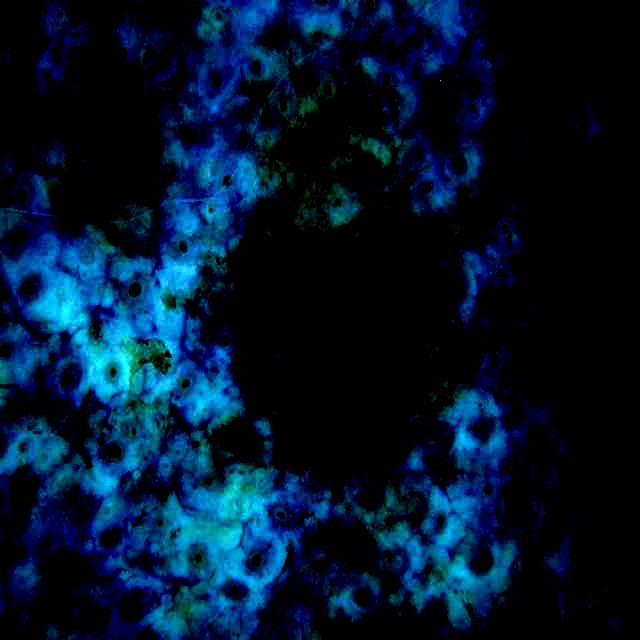MEL: (230, 209, 449, 464)
